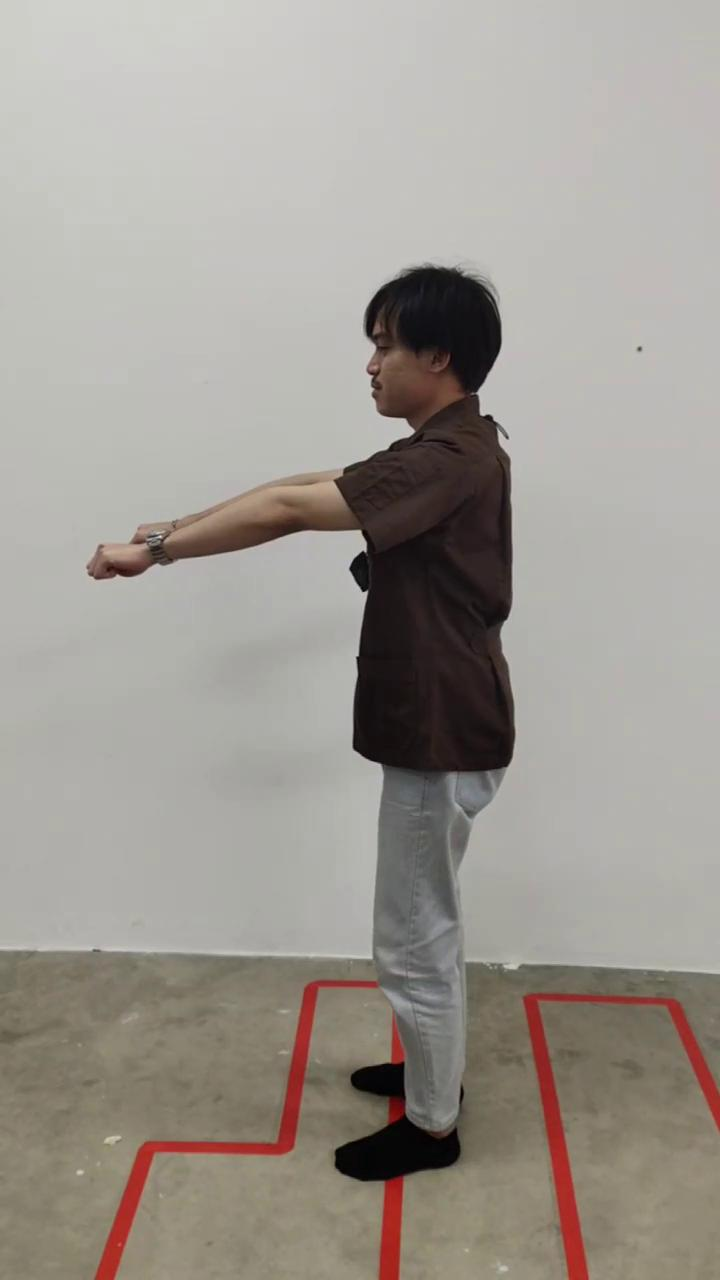squat up: (88, 265, 515, 1180)
